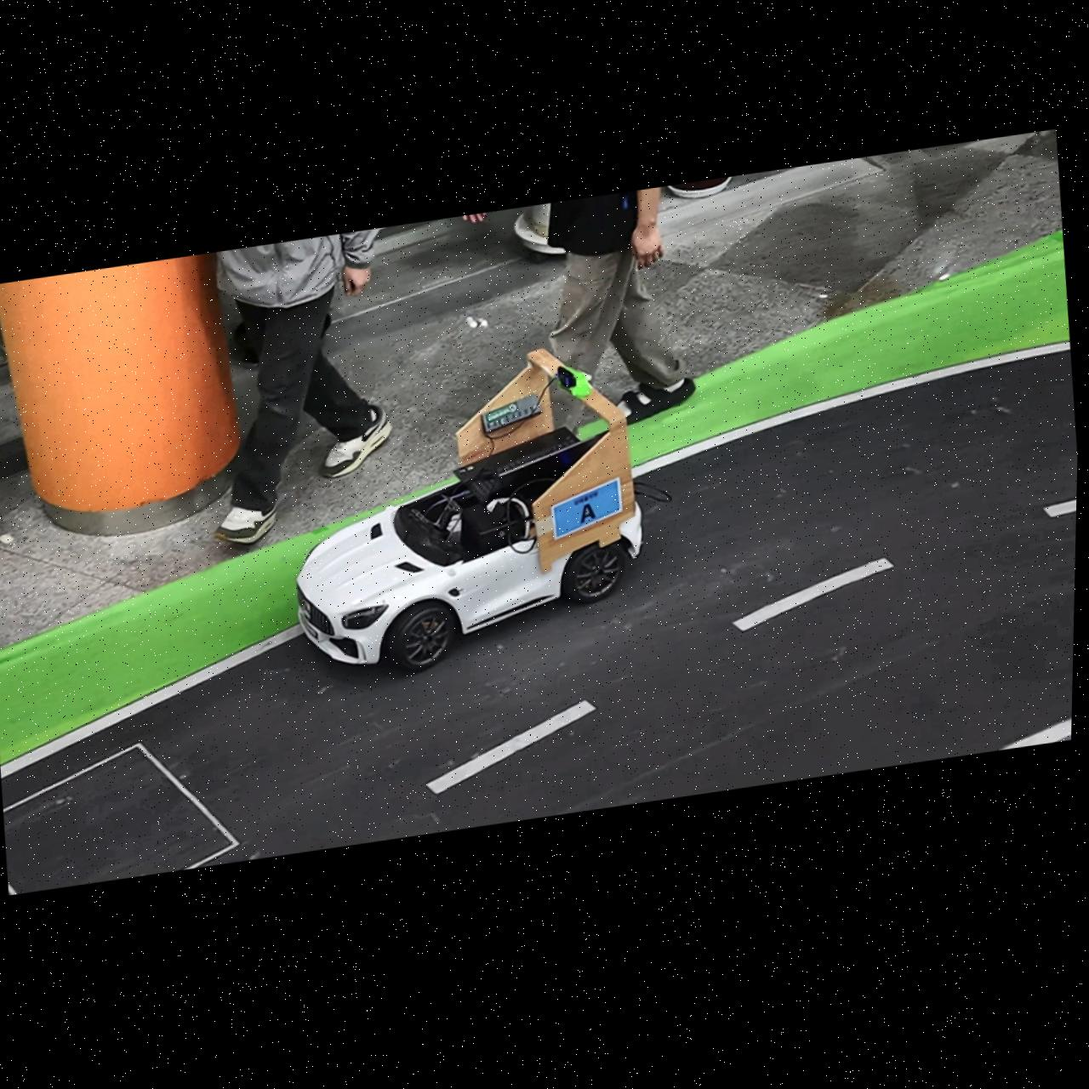broken_line: (426, 699, 596, 794), (731, 558, 894, 632), (1042, 499, 1076, 517)
